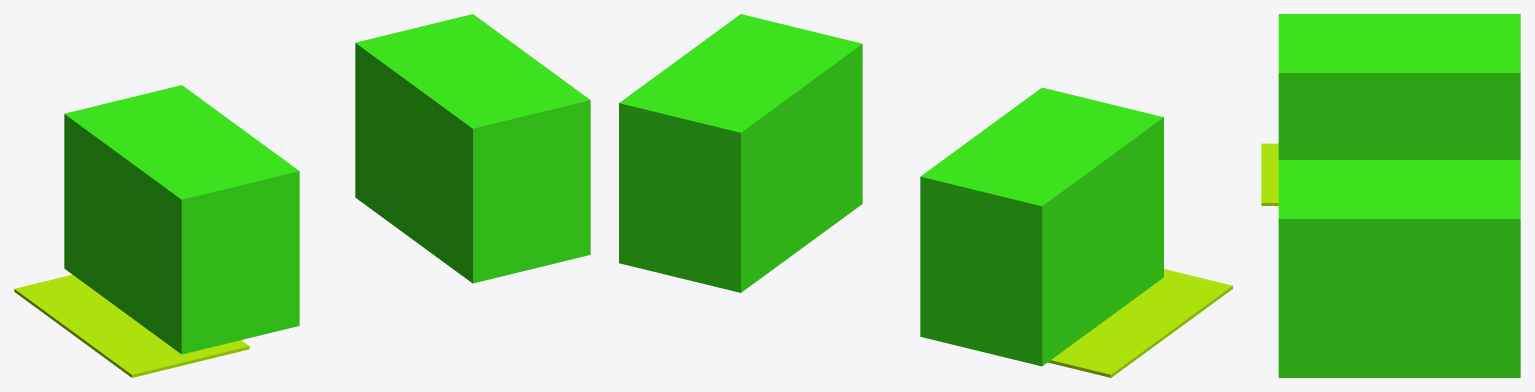
File: Chữ mica uốn nổi fom đèn LED.obj
3 renders of one model, left to right at view 1: azimuth 30°, elevation 25°; view 2: azimuth 150°, elevation 25°; view 3: azimuth 270°, elevation 25°, orthographic. The views are drawn at different scales.
Parts seen in each view (by area): view 1: micagreen, ledglow; view 2: micagreen, ledglow; view 3: micagreen, ledglow.
Part boxes in pixels (x1,y1,x2,y2): micagreen: [64, 14, 590, 354]; ledglow: [14, 274, 249, 377]; micagreen: [619, 14, 1163, 366]; ledglow: [1048, 269, 1232, 377]; micagreen: [1278, 14, 1520, 377]; ledglow: [1261, 143, 1278, 205].
Size of the model in its own units: 0.8023 by 0.259 by 0.375.
